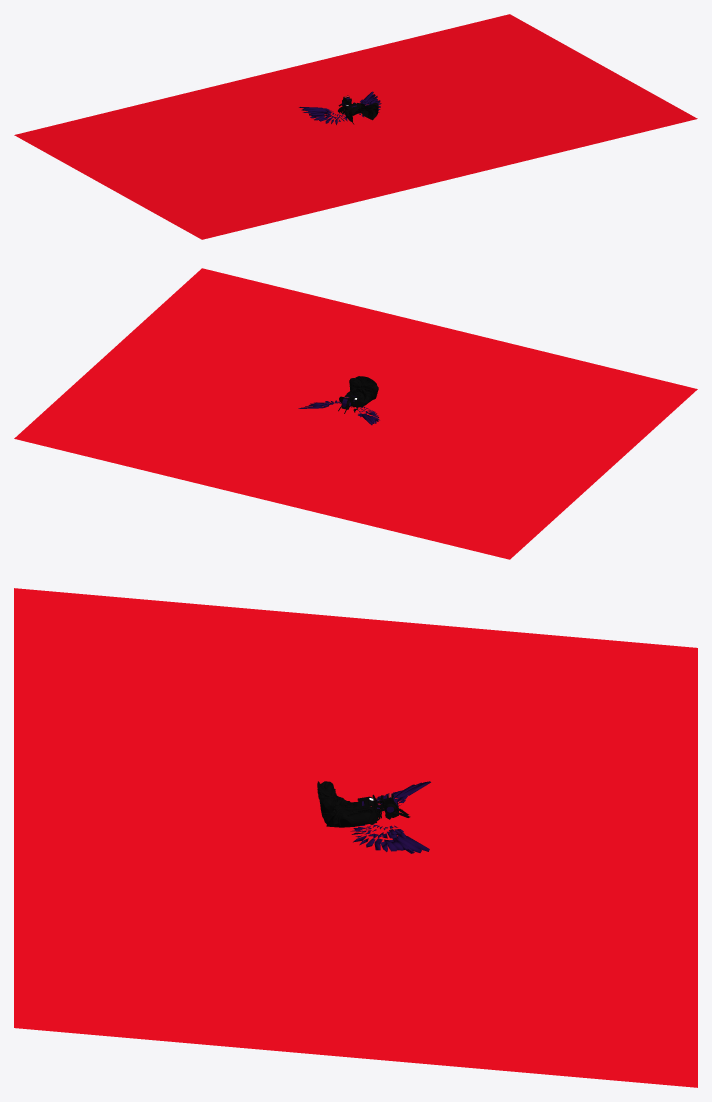
The picture shows the model from 3 angles, top to bottom: view 1: azimuth 30°, elevation 25°; view 2: azimuth 150°, elevation 25°; view 3: azimuth 270°, elevation 25°; orthographic projection. The views are drawn at different scales.
Parts seen in each view (by area): view 1: Plane, afds.001, all; view 2: Plane, all; view 3: Plane, all, afds.001.
Part boxes in pixels (x1,y1,x2,y2): Plane: [14, 14, 697, 239]; afds.001: [299, 91, 381, 124]; all: [338, 95, 378, 124]; Plane: [14, 268, 697, 559]; all: [338, 376, 378, 413]; Plane: [14, 588, 697, 1087]; all: [317, 781, 410, 827]; afds.001: [350, 781, 430, 853].
Size of the model in its own units: 2313 by 204 by 1520.
